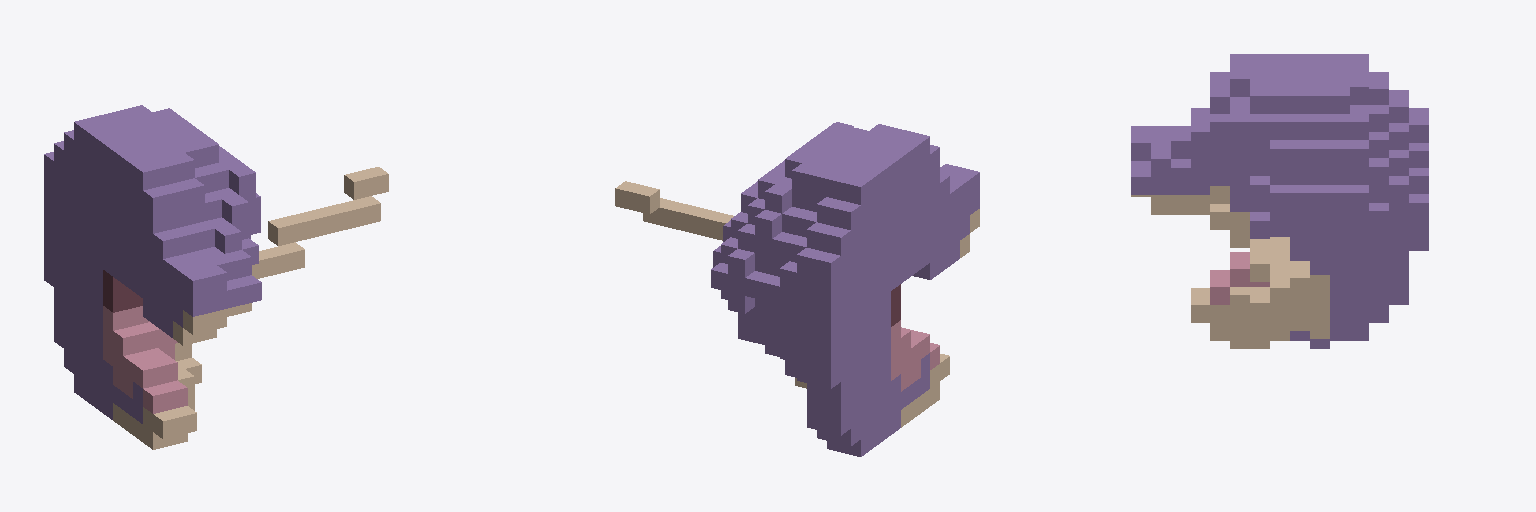
3 views of the same model, side by side, from view 1: azimuth 30°, elevation 25°; view 2: azimuth 150°, elevation 25°; view 3: azimuth 270°, elevation 25° (orthographic).
Parts seen in each view (by area): view 1: object 1; view 2: object 1; view 3: object 1.
Boxes of the visible parts, x1=… form: object 1: x1=44, y1=105, x2=388, y2=449; object 1: x1=615, y1=122, x2=979, y2=456; object 1: x1=1131, y1=54, x2=1428, y2=348.
Bounding box in the file's own units: 1.6 × 1.5 × 1.5.
1 materials, 1 textured.